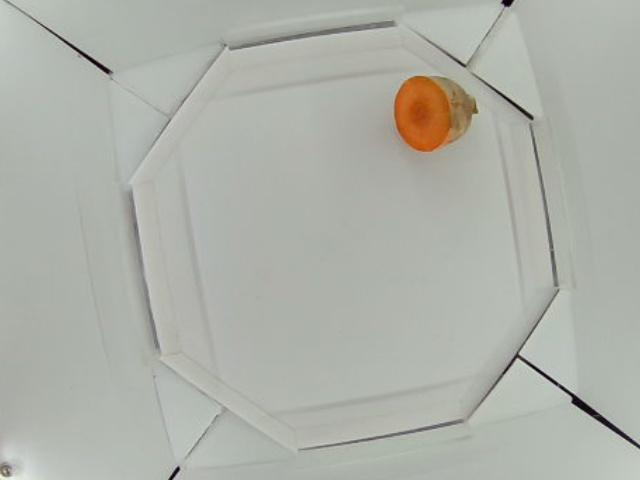Carrot: (394, 76, 476, 151)
